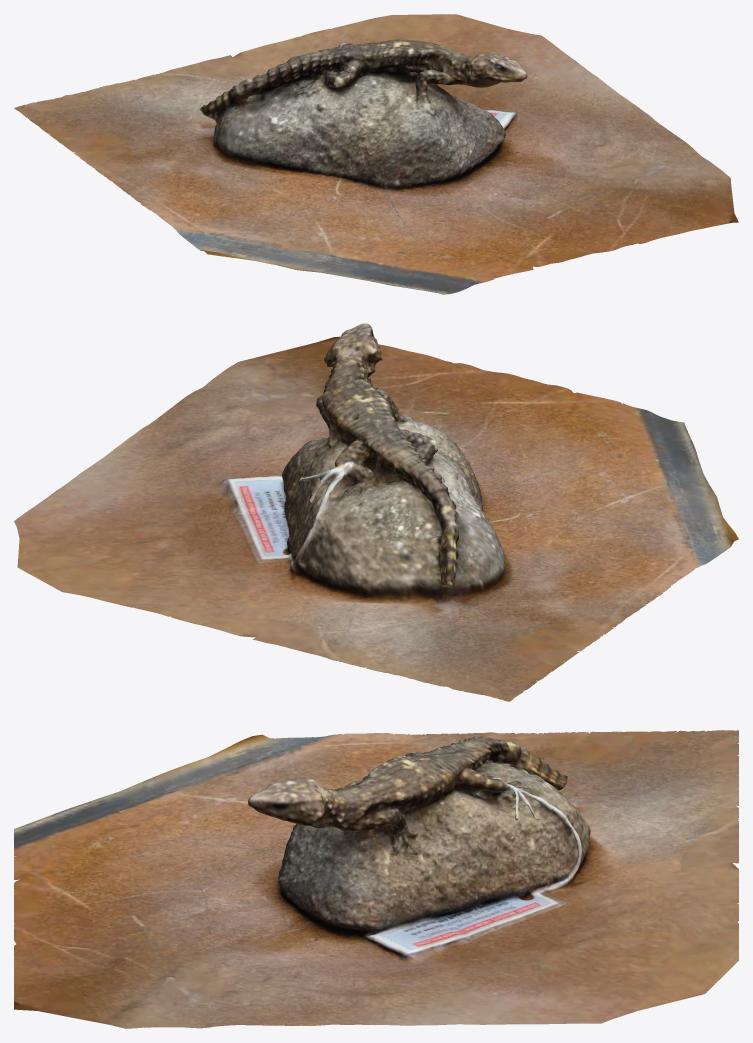
The model's file is Red Eyed Skink-compressed.glb.
3 renders of one model, top to bottom at view 1: azimuth 30°, elevation 25°; view 2: azimuth 150°, elevation 25°; view 3: azimuth 270°, elevation 25°, orthographic. The views are drawn at different scales.
Visible parts, largest first — view 1: Red Eyed Skink.usdz; view 2: Red Eyed Skink.usdz; view 3: Red Eyed Skink.usdz.
Part boxes in pixels (bbox=[...]): Red Eyed Skink.usdz: bbox=[14, 14, 738, 294]; Red Eyed Skink.usdz: bbox=[14, 323, 738, 701]; Red Eyed Skink.usdz: bbox=[14, 730, 738, 1028].
Size of the model in its own units: 0.2776 by 0.0661 by 0.2936.
1 material, 1 textured.
